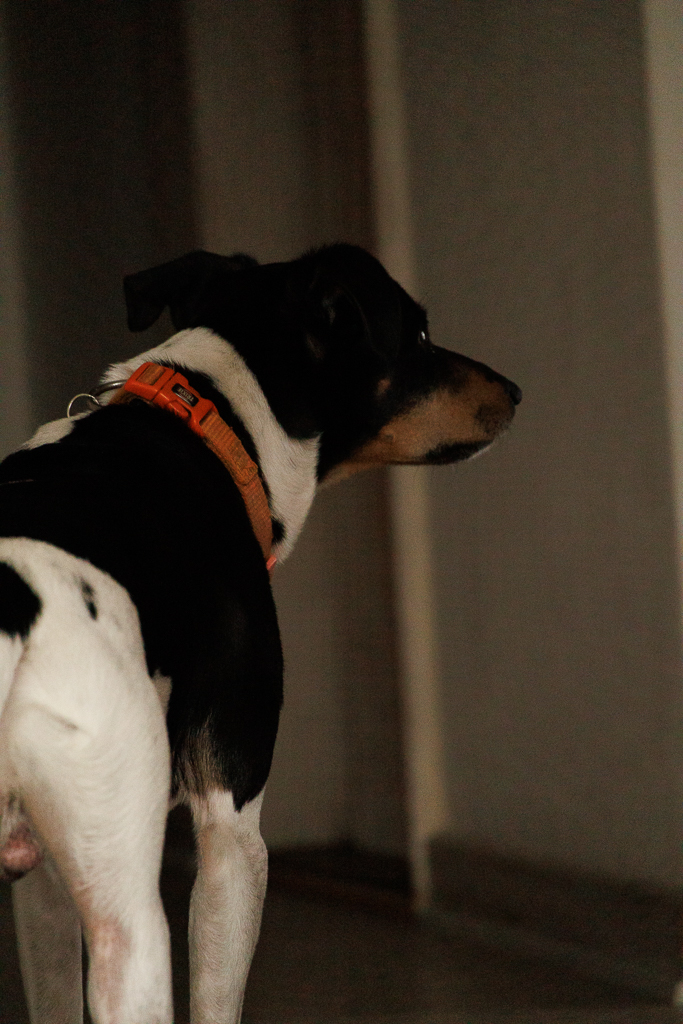Dog: (0, 229, 536, 1024)
